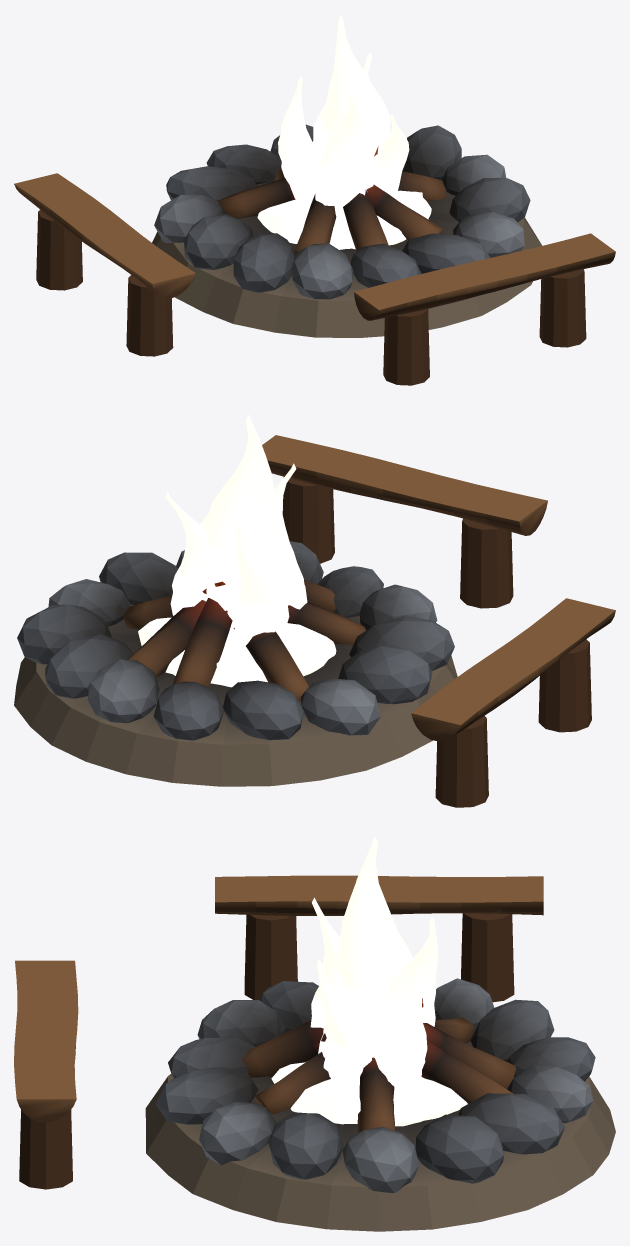
Rendered from campfire.glb.
3 renders of one model, top to bottom at view 1: azimuth 30°, elevation 25°; view 2: azimuth 150°, elevation 25°; view 3: azimuth 270°, elevation 25°, orthographic. The views are drawn at different scales.
Visible parts, largest first — view 1: CampfireAshAndStones, CampfireFlame, CampfireLogs, EmberBed; view 2: CampfireAshAndStones, CampfireFlame, CampfireLogs, EmberBed; view 3: CampfireAshAndStones, CampfireFlame, CampfireLogs, EmberBed.
Boxes of the visible parts, x1,y1,x2,y2 form: CampfireAshAndStones: (14,124,615,385); CampfireFlame: (278,14,409,216); CampfireLogs: (219,146,446,255); EmberBed: (257,190,431,249); CampfireAshAndStones: (14,435,615,807); CampfireFlame: (165,414,307,650); CampfireLogs: (123,579,365,701); EmberBed: (138,617,336,687); CampfireAshAndStones: (14,875,615,1231); CampfireFlame: (310,836,437,1088); CampfireLogs: (241,998,515,1132); EmberBed: (271,1062,467,1126).
Bounding box in the file's own units: 2.66 × 1.44 × 2.67.
